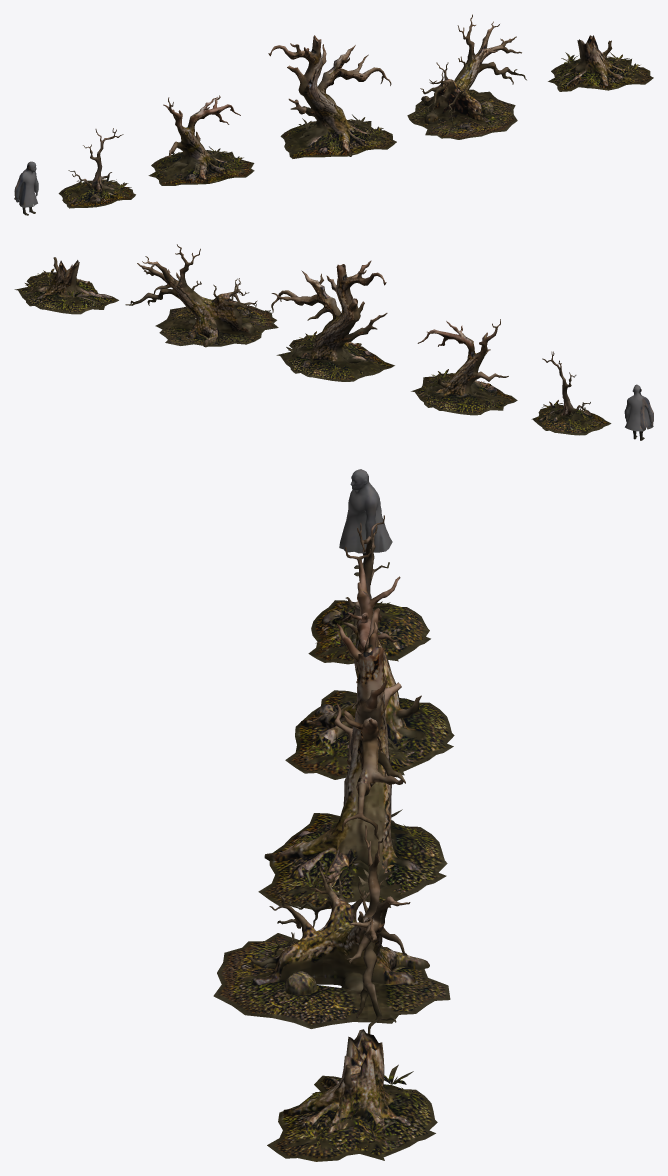
The model's file is asset_11b_dead_tree_row.glb.
3 views of the same model, one above another, from view 1: azimuth 30°, elevation 25°; view 2: azimuth 150°, elevation 25°; view 3: azimuth 270°, elevation 25° (orthographic). The views are drawn at different scales.
Visible parts, largest first — view 1: ec1fb7b0_c2ed_4ed9_9e03_4510f7caf23a; view 2: ec1fb7b0_c2ed_4ed9_9e03_4510f7caf23a; view 3: ec1fb7b0_c2ed_4ed9_9e03_4510f7caf23a.
Boxes of the visible parts, x1,y1,x2,y2 form: ec1fb7b0_c2ed_4ed9_9e03_4510f7caf23a: (14,14,653,215); ec1fb7b0_c2ed_4ed9_9e03_4510f7caf23a: (14,244,653,440); ec1fb7b0_c2ed_4ed9_9e03_4510f7caf23a: (213,469,454,1161).
Size of the model in its own units: 0.9995 by 0.1611 by 0.1675.
Materials: 1 (1 with a texture image).
